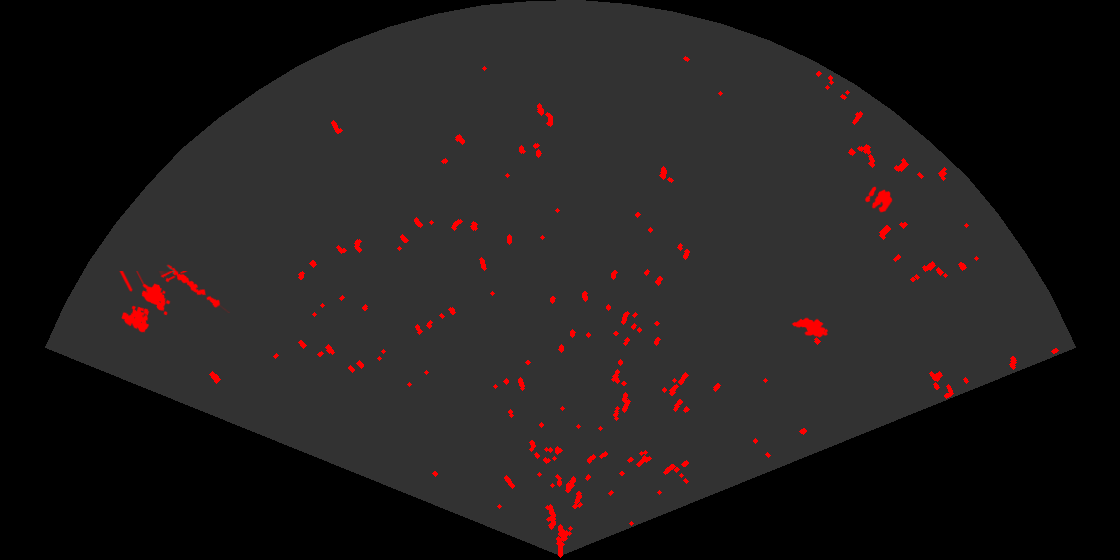AUV: (790, 316, 830, 339)
ball: (863, 185, 894, 214)
cage: (118, 271, 188, 334)
chain: (166, 263, 230, 313)
